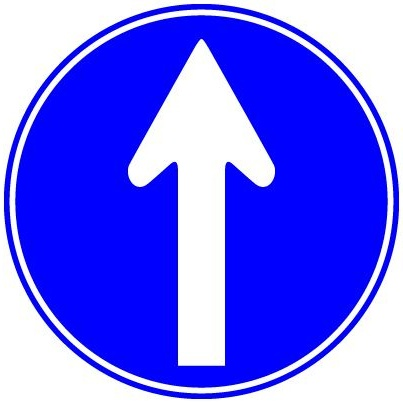Direction_sign: (3, 2, 402, 401)
